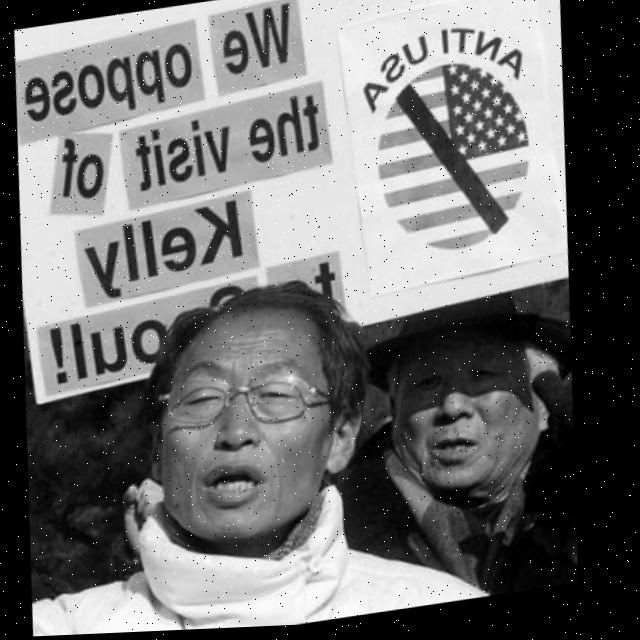face: (112, 283, 368, 564), (382, 291, 564, 521)
